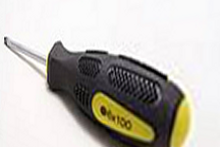screwdriver: (2, 32, 196, 147)
